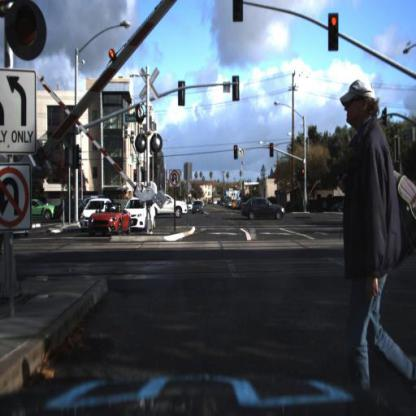car: (87, 203, 134, 234), (121, 195, 157, 234), (21, 194, 61, 225), (149, 191, 189, 222), (242, 198, 286, 223), (75, 198, 103, 232)
pedestrian: (336, 74, 415, 402), (341, 81, 416, 413)
trafficLight: (11, 2, 45, 56), (233, 2, 245, 25)
trafficLight-Red: (328, 14, 340, 52), (269, 140, 277, 161), (301, 165, 307, 186), (233, 143, 239, 161), (271, 142, 275, 158)
